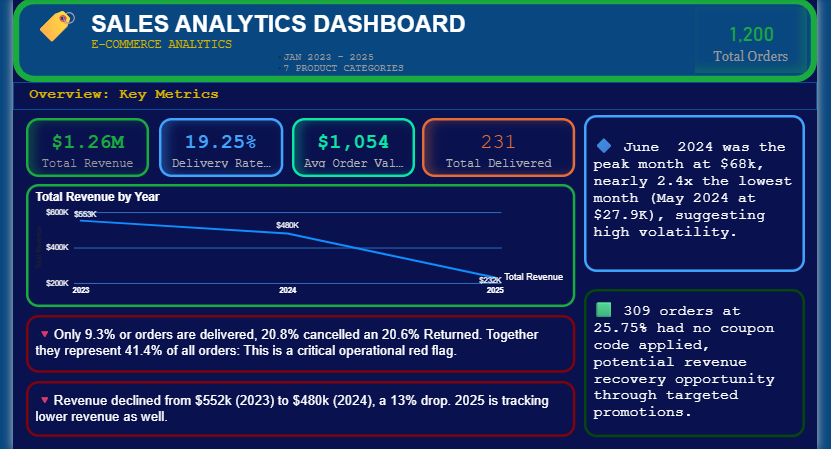

Layout of this report page (visuals, bound fields, positions):
{"tool":"powerbi","page":{"name":"Overview Dashboard","canvas":[1280,720],"ordinal":1},"visuals":[{"type":"shape","box":[0,0,1280.7,133.8],"z":0},{"type":"textbox","box":[119.5,15.9,619.6,117.9],"z":1000},{"type":"card","fields":{"Values":["Sheet1.Total Orders"]},"box":[1086.4,14.3,178.4,105.1],"z":2000},{"type":"shape","box":[0,133.8,1280.7,44.6],"z":3000},{"type":"textbox","box":[20.7,133.8,344.1,41.4],"z":4000},{"type":"card","fields":{"Values":["Sheet1.Total Revenue"]},"box":[20.7,191.2,195.9,94],"z":5000},{"type":"card","fields":{"Values":["Sheet1.Total Orders Delivered"]},"box":[651.5,191.2,243.7,94],"z":6000},{"type":"card","fields":{"Values":["Sheet1.Avg Order Value"]},"box":[444.4,191.2,195.9,94],"z":7000},{"type":"card","fields":{"Values":["Sheet1.Delivery Rate %"]},"box":[232.6,191.2,197.5,94],"z":8000},{"type":"lineChart","fields":{"Category":["Sheet1.Date.Variation.Date Hierarchy.Year"],"Y":["Sheet1.Total Revenue"]},"box":[20.7,296.3,874.5,195.9],"z":9000},{"type":"textbox","box":[20.7,505,874.5,92.4],"z":10000},{"type":"textbox","box":[20.7,610.1,874.5,89.2],"z":11000},{"type":"textbox","box":[909.6,186.4,352,250.1],"z":12000},{"type":"textbox","box":[909.6,463.5,352,235.8],"z":13000},{"type":"textbox","box":[27.1,0,92.4,86],"z":14000}]}

Visuals, with their boxes on the page's 1280x720 design canvas (x1, y1, x2, y2). These are canvas units, not pixel positions in the 831x449 screenshot, which may show the page scaled, cropped or inside an application window:
shape: left=0, top=0, right=1281, bottom=134
textbox: left=120, top=16, right=739, bottom=134
card - Sheet1.Total Orders: left=1086, top=14, right=1265, bottom=119
shape: left=0, top=134, right=1281, bottom=178
textbox: left=21, top=134, right=365, bottom=175
card - Sheet1.Total Revenue: left=21, top=191, right=217, bottom=285
card - Sheet1.Total Orders Delivered: left=652, top=191, right=895, bottom=285
card - Sheet1.Avg Order Value: left=444, top=191, right=640, bottom=285
card - Sheet1.Delivery Rate %: left=233, top=191, right=430, bottom=285
lineChart - Sheet1.Date.Variation.Date Hierarchy.Year x Sheet1.Total Revenue: left=21, top=296, right=895, bottom=492
textbox: left=21, top=505, right=895, bottom=597
textbox: left=21, top=610, right=895, bottom=699
textbox: left=910, top=186, right=1262, bottom=436
textbox: left=910, top=464, right=1262, bottom=699
textbox: left=27, top=0, right=120, bottom=86
